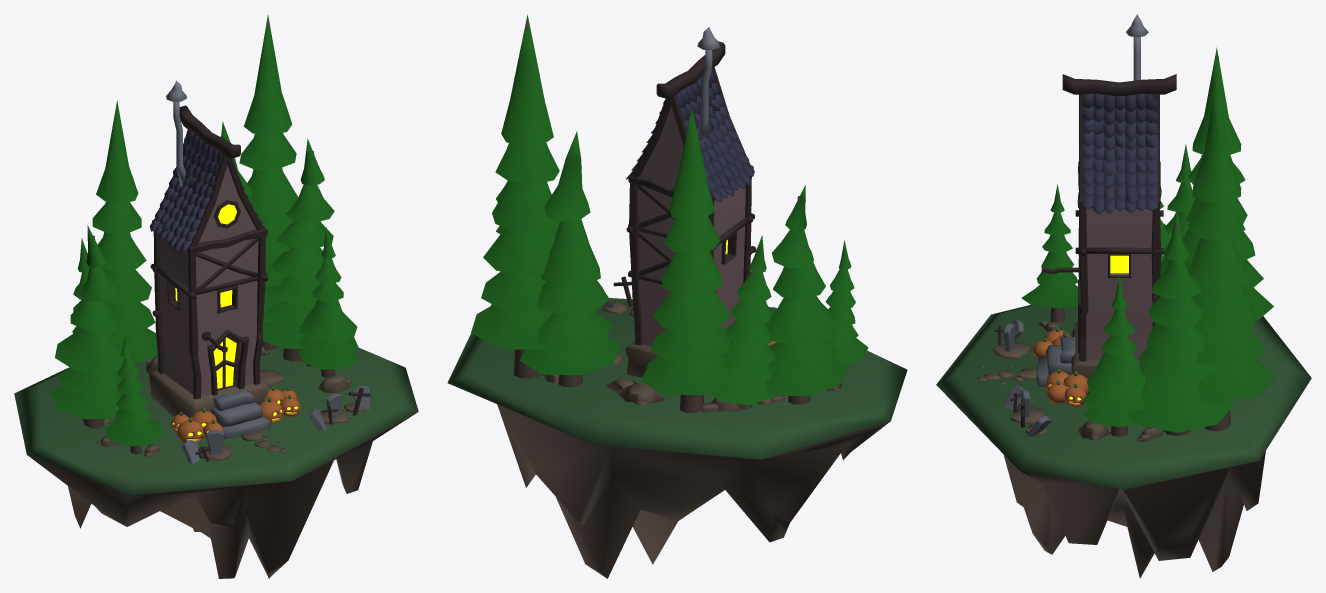
The model's file is halloween_haunted_house_merged.glb.
3 renders of one model, left to right at view 1: azimuth 30°, elevation 25°; view 2: azimuth 150°, elevation 25°; view 3: azimuth 270°, elevation 25°, orthographic. The views are drawn at different scales.
Parts seen in each view (by area): view 1: HalloweenHouse_Merged; view 2: HalloweenHouse_Merged; view 3: HalloweenHouse_Merged.
Part boxes in pixels (x1,y1,x2,y2): HalloweenHouse_Merged: (14,15,418,578); HalloweenHouse_Merged: (447,14,907,578); HalloweenHouse_Merged: (936,14,1311,578).
Size of the model in its own units: 53.07 by 68.16 by 42.46.
1 material, 1 textured.
